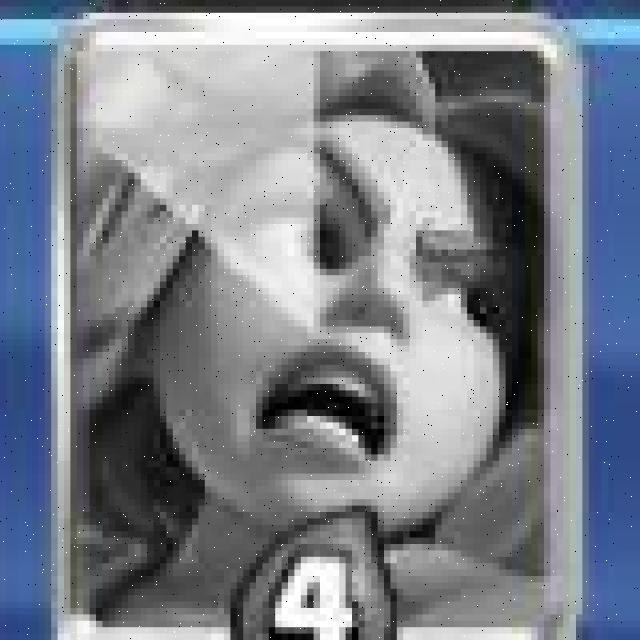Valkyrie: (51, 14, 586, 636)
